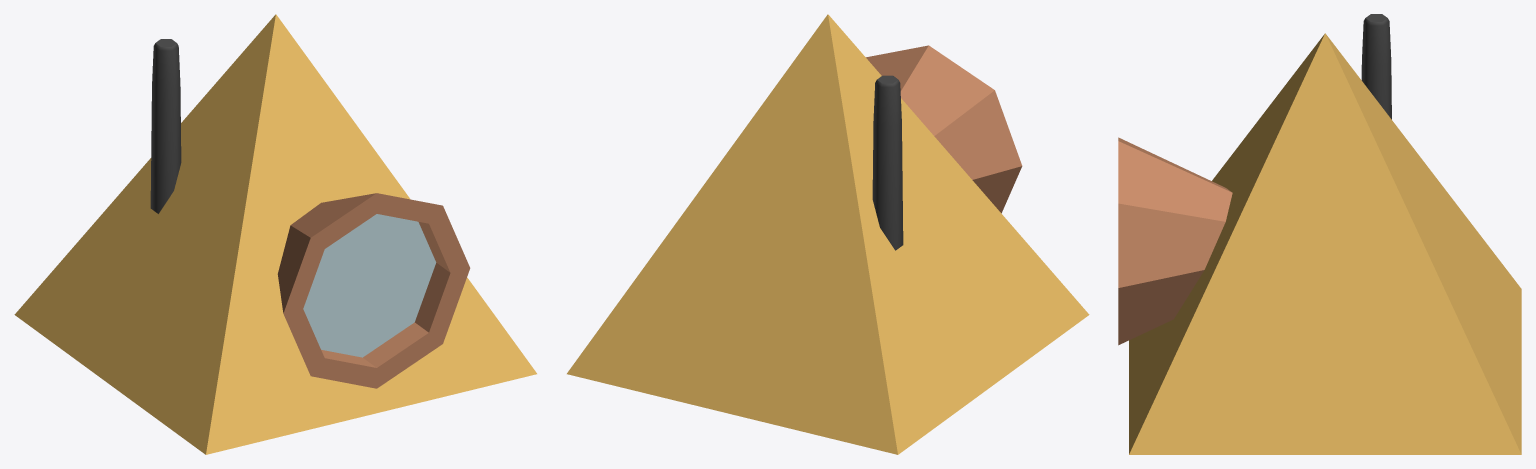
The model's file is float_cam.fbx.
3 renders of one model, left to right at view 1: azimuth 30°, elevation 25°; view 2: azimuth 150°, elevation 25°; view 3: azimuth 270°, elevation 25°, orthographic. The views are drawn at different scales.
Visible parts, largest first — view 1: Cone, Cone.001, Cylinder; view 2: Cone, Cone.001, Cylinder; view 3: Cone, Cone.001, Cylinder.
Boxes of the visible parts, <box> form: Cone: <box>14,14,536,454</box>; Cone.001: <box>277,193,470,388</box>; Cylinder: <box>150,39,181,213</box>; Cone: <box>567,14,1089,454</box>; Cone.001: <box>866,45,1022,213</box>; Cylinder: <box>872,75,903,250</box>; Cone: <box>1129,33,1521,454</box>; Cone.001: <box>1118,137,1232,345</box>; Cylinder: <box>1361,14,1391,119</box>.
Size of the model in its own units: 141 by 135 by 145.
